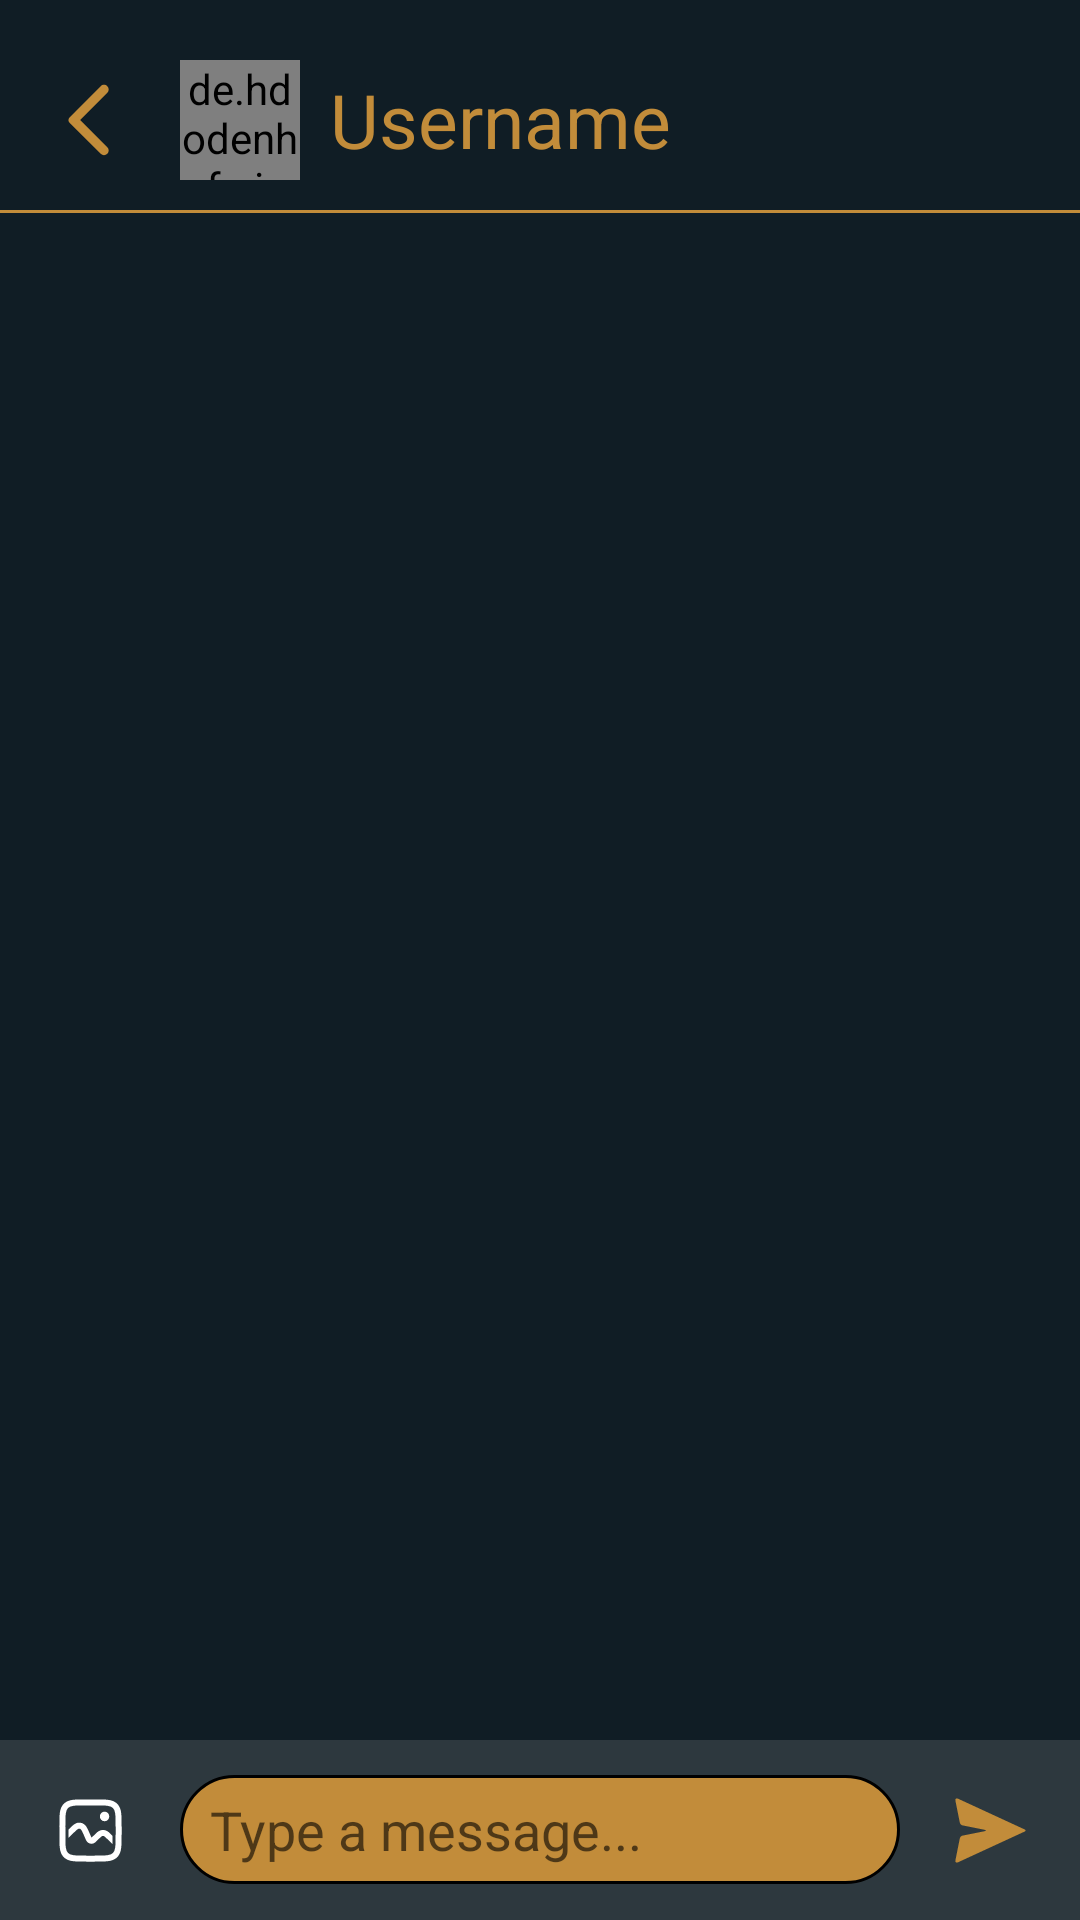

Where to tap for icons on this 1080px×1920px app screen, as (x,y):
back arrow: (88,119)
